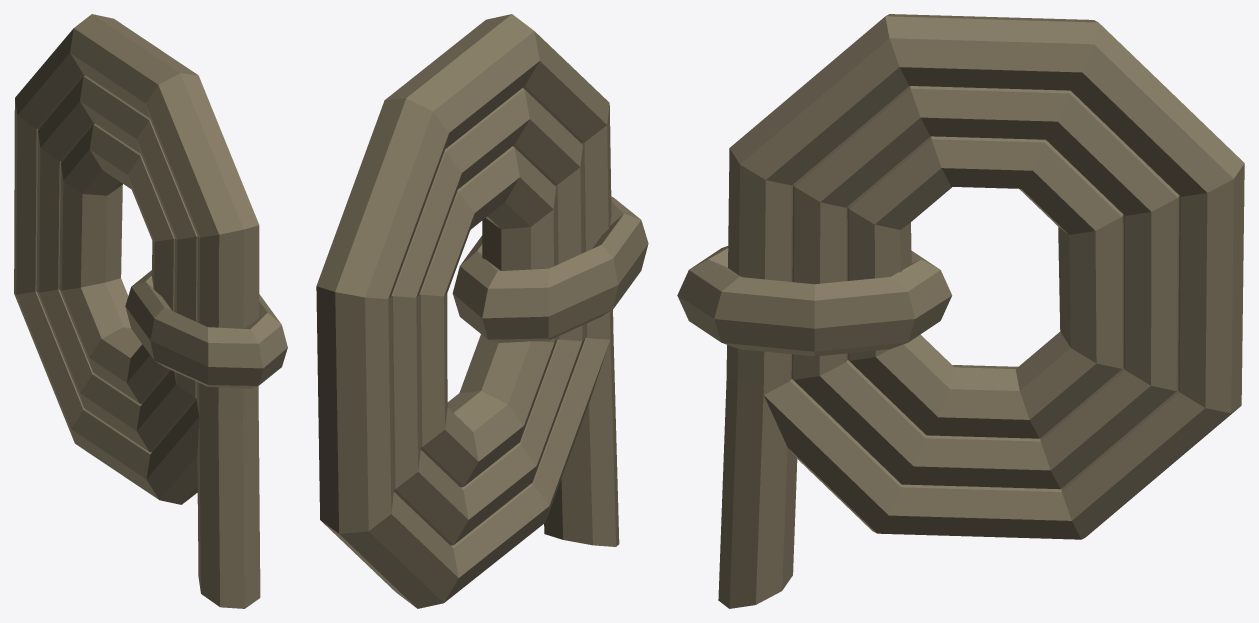
File: Rope.fbx
The picture shows the model from 3 angles, left to right: view 1: azimuth 30°, elevation 25°; view 2: azimuth 150°, elevation 25°; view 3: azimuth 270°, elevation 25°; orthographic projection. The views are drawn at different scales.
Parts seen in each view (by area): view 1: pTorus7; view 2: pTorus7; view 3: pTorus7.
Part boxes in pixels (left/top/right/bottom): pTorus7: left=14, top=14, right=287, bottom=608; pTorus7: left=316, top=14, right=648, bottom=608; pTorus7: left=677, top=14, right=1244, bottom=608.
Bounding box in the file's own units: 0.0293 × 0.1203 × 0.1054.
